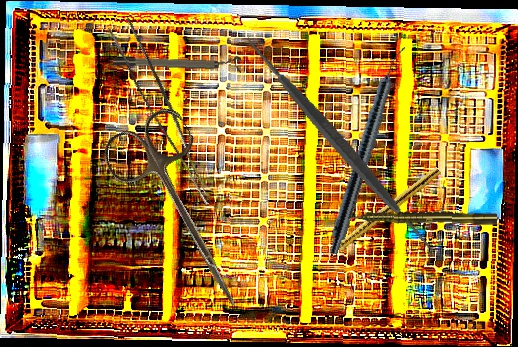Fixation Ring: (112, 49, 242, 75)
Handpiece: (325, 42, 409, 258), (321, 164, 442, 262), (348, 209, 498, 227)
Iris Scissors: (96, 102, 277, 326)
Spatula Surgical: (216, 21, 463, 268)
Tissue Forceps: (102, 16, 232, 206)
